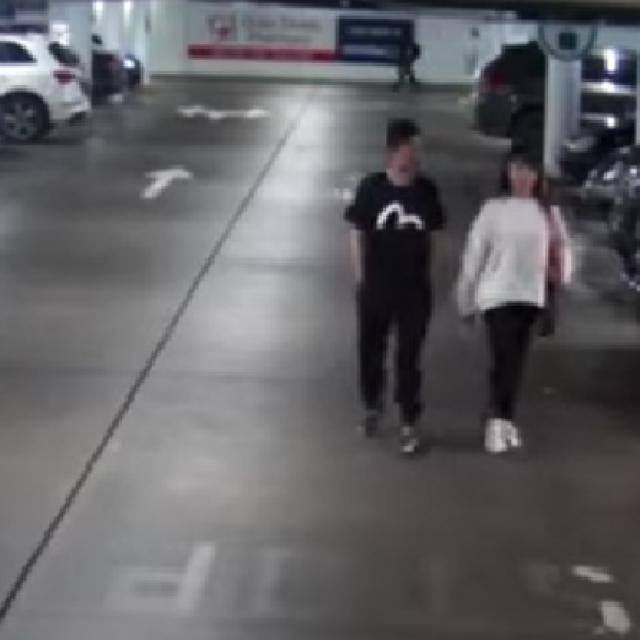person: (455, 143, 571, 452), (346, 118, 443, 452), (393, 35, 419, 87)
